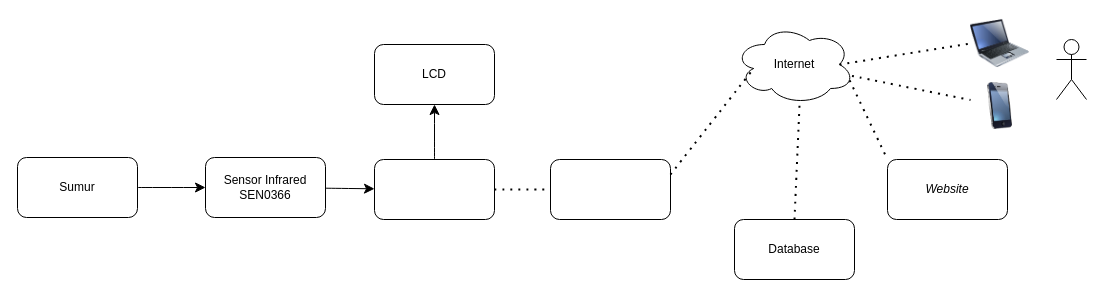
The diagram is 1116 pixels wide and 297 high, and some of its shapes have lost their labels. The box of each missing label's shape, as (x1, y1, x2, y2) in pixels:
ESP32: (374, 158, 494, 220)
Jaringan Wifi dengan Access Point: (550, 158, 670, 220)
Pengguna: (1056, 38, 1086, 100)
